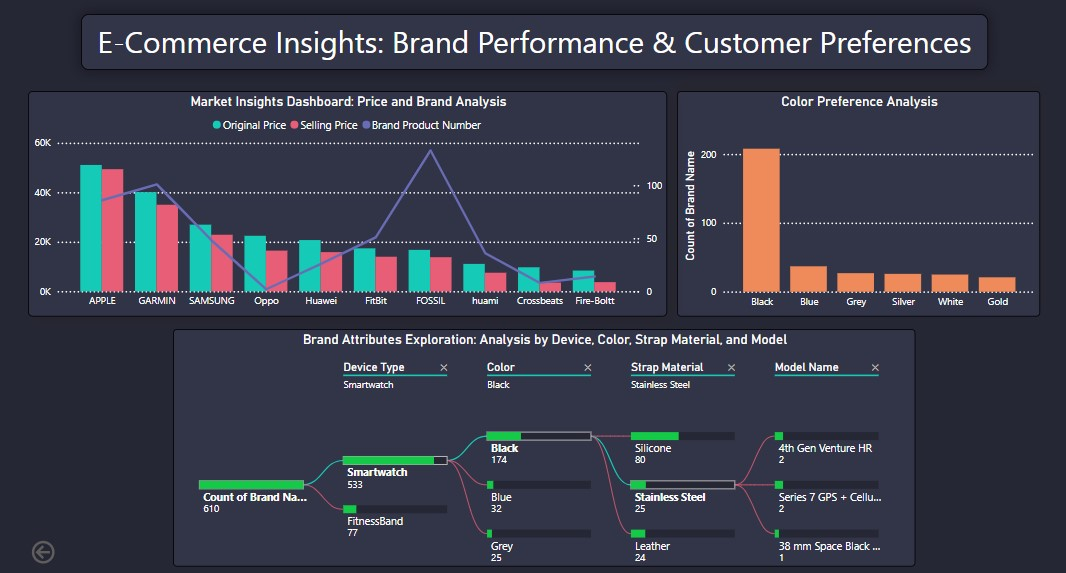

The page's visual inventory and layout, read from the dashboard file:
{"tool":"powerbi","page":{"name":"Report Page no#2","canvas":[1280,720],"ordinal":1},"visuals":[{"type":"columnChart","title":"Color Preference Analysis","fields":{"Category":["Ecomerece Datset.Color"],"Y":["CountNonNull(Ecomerece Datset.Brand Name)"]},"box":[817.6,115,454,281.9],"z":0},{"type":"lineClusteredColumnComboChart","title":"Market Insights Dashboard: Price and Brand Analysis","fields":{"Category":["Ecomerece Datset.Brand Name"],"Y":["Avg(Ecomerece Datset.Original Price)","Avg(Ecomerece Datset.Selling Price)"],"Y2":["CountNonNull(Ecomerece Datset.Brand Name)"]},"box":[6.1,115,799.3,281.9],"z":1000},{"type":"decompositionTreeVisual","title":"Brand Attributes Exploration: Analysis by Device, Color, Strap Material, and Model","fields":{"Analyze":["CountNonNull(Ecomerece Datset.Brand Name)"],"ExplainBy":["Ecomerece Datset.Device Type","Ecomerece Datset.Color","Ecomerece Datset.Strap Material","Ecomerece Datset.Model Name"]},"box":[187.2,411.9,927.7,297.3],"z":2000},{"type":"textbox","box":[72,18.3,1133.7,69.6],"z":3000},{"type":"actionButton","box":[6.1,672.4,65.9,37.8],"z":3001}]}

Visuals, with their boxes on the page's 1280x720 design canvas (x1, y1, x2, y2). These are canvas units, not pixel positions in the 1066x573 screenshot, which may show the page scaled, cropped or inside an application window:
"Color Preference Analysis" columnChart: bbox=(818, 115, 1272, 397)
"Market Insights Dashboard: Price and Brand Analysis" lineClusteredColumnComboChart: bbox=(6, 115, 805, 397)
"Brand Attributes Exploration: Analysis by Device, Color, Strap Material, and Model" decompositionTreeVisual: bbox=(187, 412, 1115, 709)
textbox: bbox=(72, 18, 1206, 88)
actionButton: bbox=(6, 672, 72, 710)
